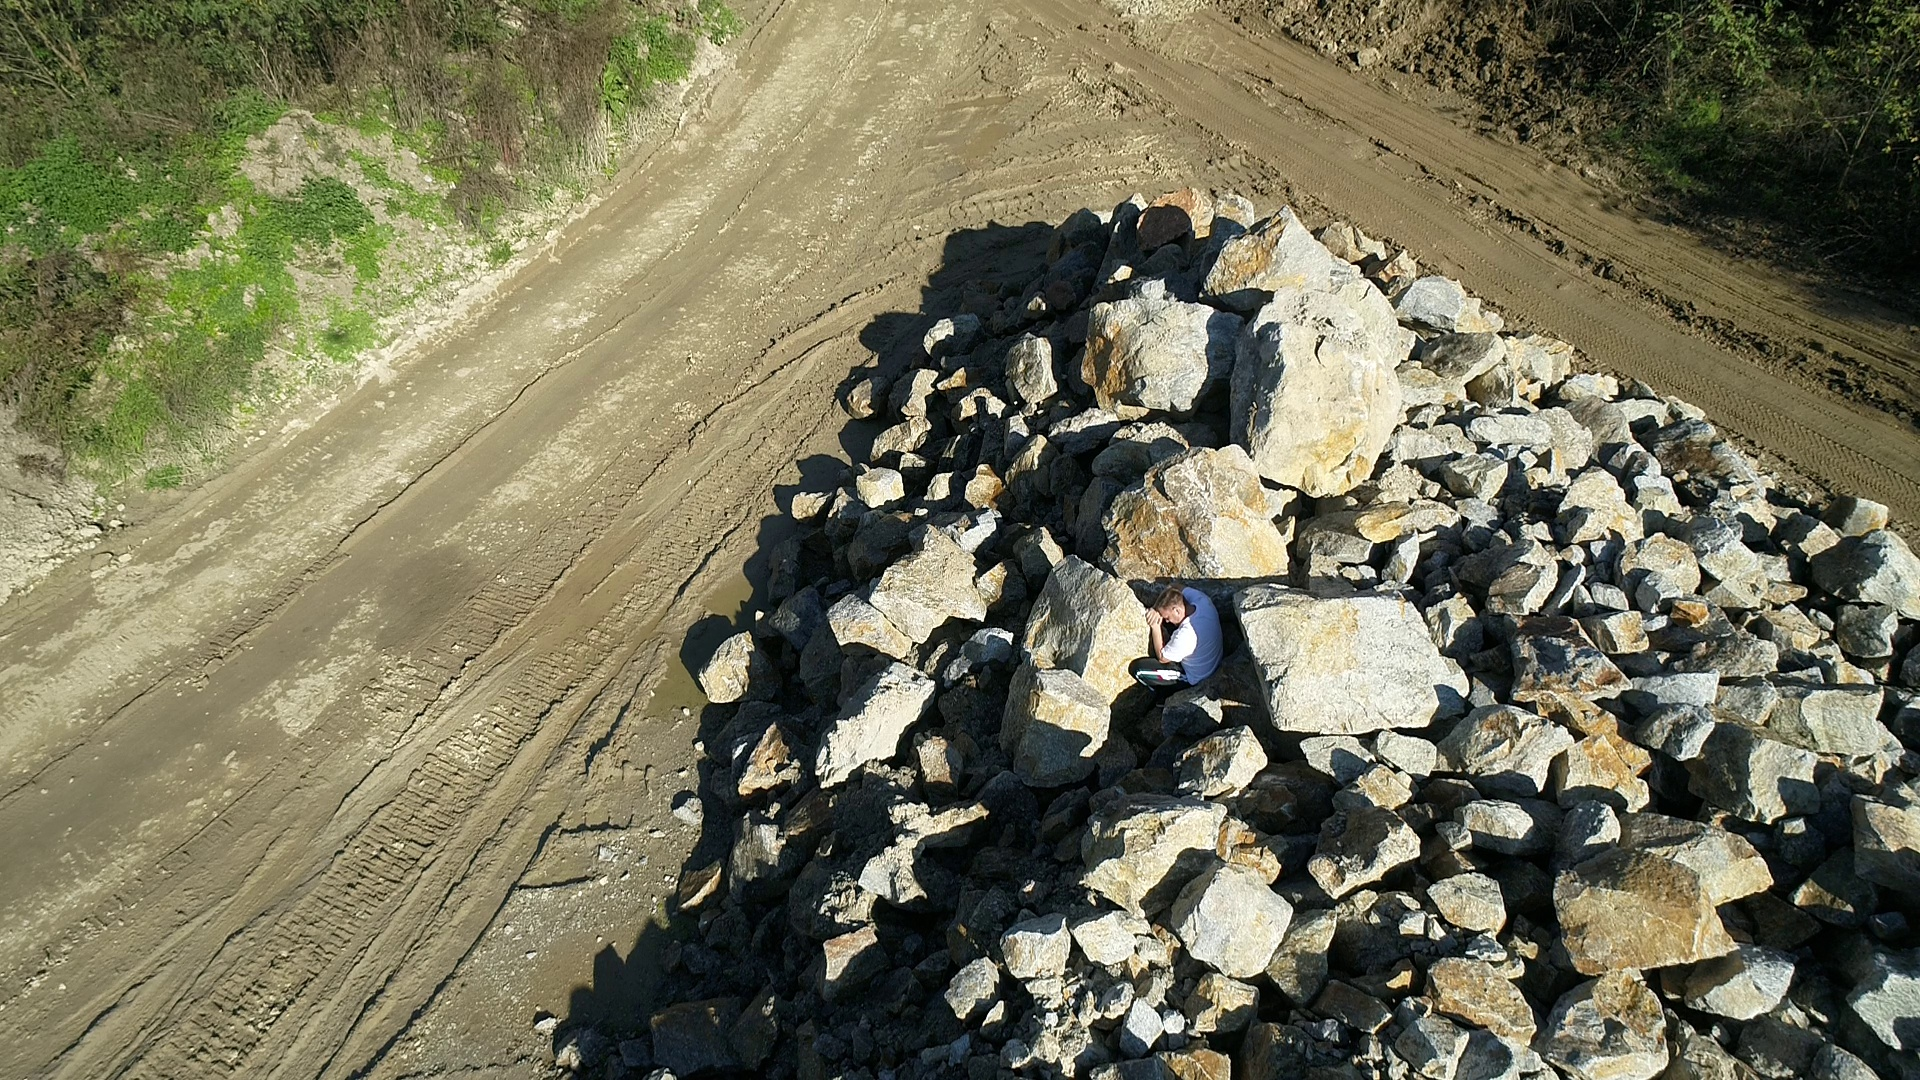person: (1126, 580, 1221, 700)
